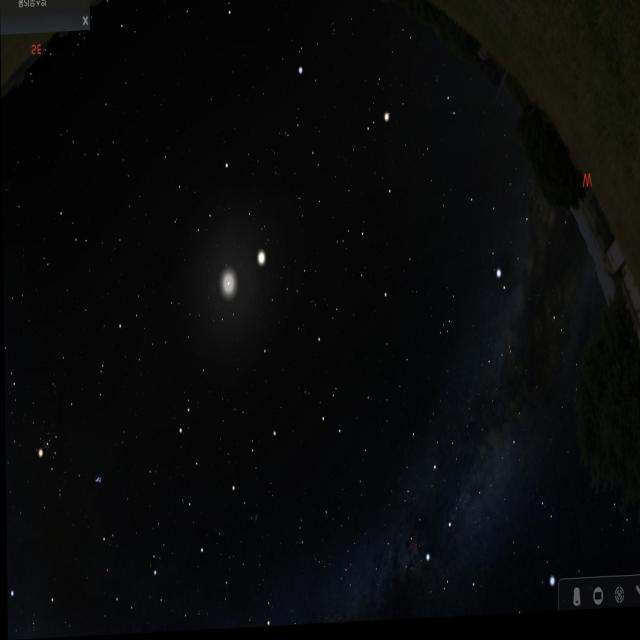aquila: (466, 166, 540, 300)
cygnus: (415, 438, 521, 606)
lyra: (528, 488, 560, 601)
moon: (200, 242, 253, 323)
pleiades: (88, 466, 105, 499)
taurus: (29, 397, 109, 510)
